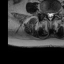CCS_normal: (49, 10, 51, 22)
LFS_severe_stenosis: (54, 10, 56, 17)
LLS_normal: (51, 10, 53, 19)
RFS_severe_stenosis: (44, 10, 47, 16)
RLS_stenosis: (46, 10, 49, 19)
